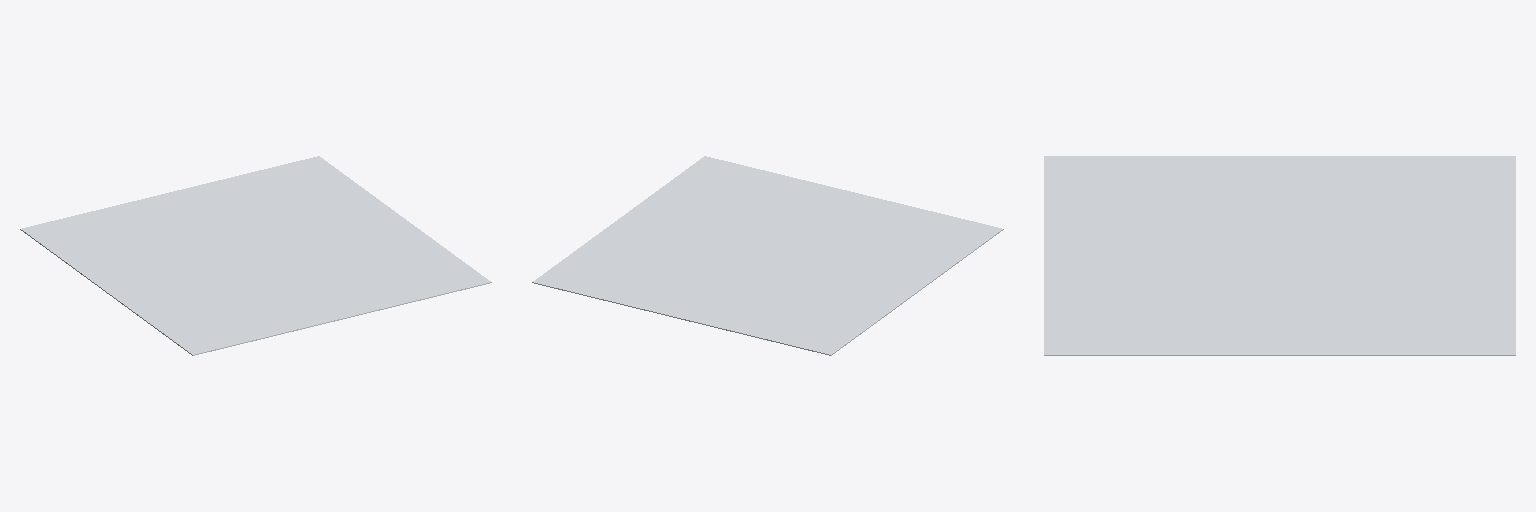
robot.urdf — simpleplane:
<?xml version="1.0"?> 
<robot name="simpleplane">
    <!-- Colors --> 
    <material name="grey"> 
        <color rgba="0.91 0.925 0.945 1"/>
    </material>

    <!-- Plane -->
    <link name="plane">
        <visual> 
            <geometry> 
                <box size="3 3 0.01"/>
                <origin rpy="0 0 0" xyz="-10 -10 -0.005"/>
            </geometry>
            <material name="grey"/>
        </visual>
        <collision> 
             <geometry> 
                <box size="3 3 0.01"/>
                <origin rpy="0 0 0" xyz="-10 -10 -0.005"/>
            </geometry>
        </collision> 
        <inertial> 
            <mass value="0"/>
            <inertia ixx="0" ixy="0" ixz="0" iyy="0" iyz="0" izz="0"/>
        </inertial> 
        <contact> 
            <lateral_friction value="4"/>
        </contact>
    </link> 
</robot>

--- What the picture shows (computed from the rendered views, not written in the file) ---
Views: 3 orthographic renders of the robot side by side, from view 1: azimuth 30°, elevation 25°; view 2: azimuth 150°, elevation 25°; view 3: azimuth 270°, elevation 25°.
Model simpleplane with 1 links and 0 joints (none), rooted at plane, posed all joints at 0.
Links seen in each view (by area): view 1: plane; view 2: plane; view 3: plane.
Link boxes in pixels (bbox=[...]): plane: bbox=[20, 156, 491, 355]; plane: bbox=[532, 156, 1003, 355]; plane: bbox=[1044, 156, 1515, 355].
Bounding box of the posed robot: 3 × 3 × 0.01 m (x, y, z).
Geometry: primitives only (box / cylinder / sphere), no mesh files.
